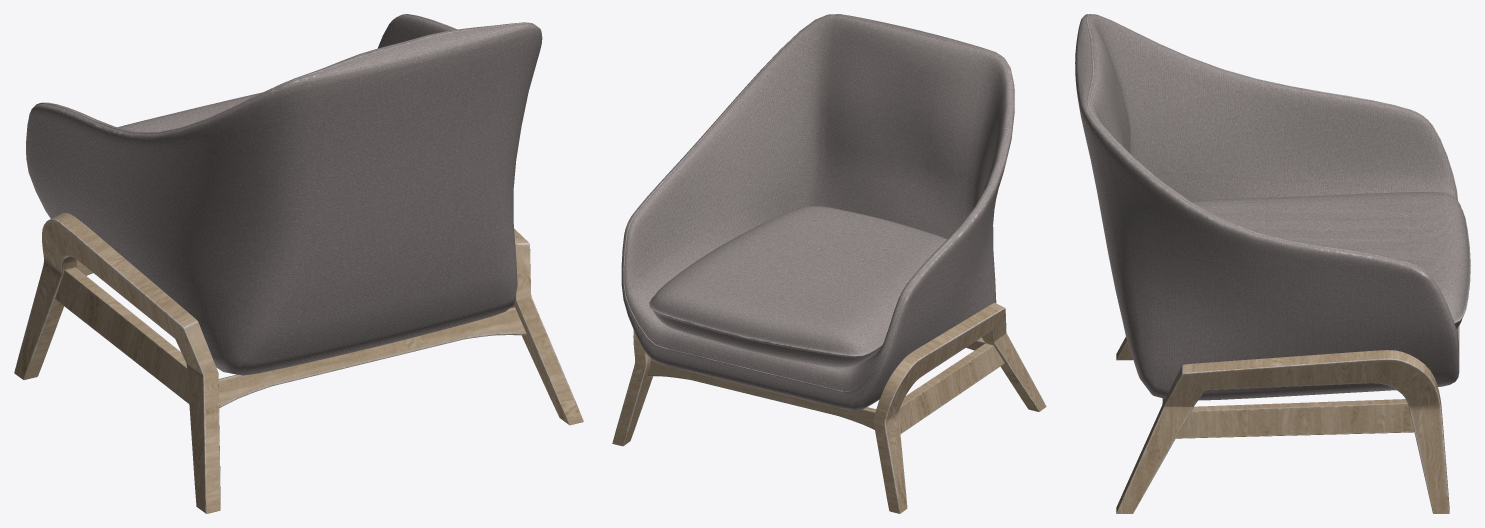
File: mini_armchair2.glb
3 renders of one model, left to right at view 1: azimuth 30°, elevation 25°; view 2: azimuth 150°, elevation 25°; view 3: azimuth 270°, elevation 25°, orthographic. The views are drawn at different scales.
Parts seen in each view (by area): view 1: Fauteuil_armchair_0; view 2: Fauteuil_armchair_0; view 3: Fauteuil_armchair_0.
Boxes of the visible parts, x1=… form: Fauteuil_armchair_0: x1=14, y1=14, x2=583, y2=513; Fauteuil_armchair_0: x1=612, y1=14, x2=1046, y2=513; Fauteuil_armchair_0: x1=1075, y1=14, x2=1470, y2=513.
Bounding box in the file's own units: 70.26 × 77.45 × 73.45.
1 material, 1 textured.
